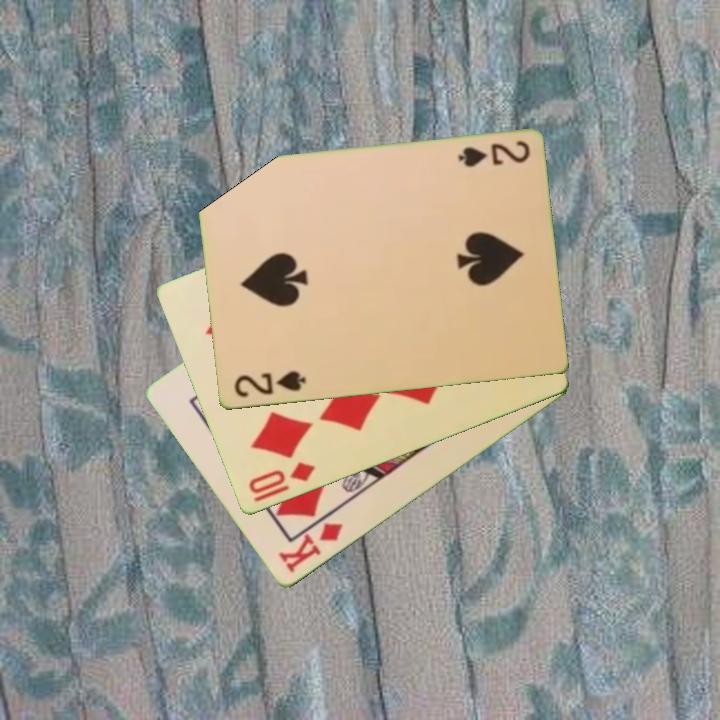10d: (245, 459, 318, 498)
2s: (454, 137, 532, 171), (230, 368, 309, 401)
Kd: (274, 519, 346, 577)
